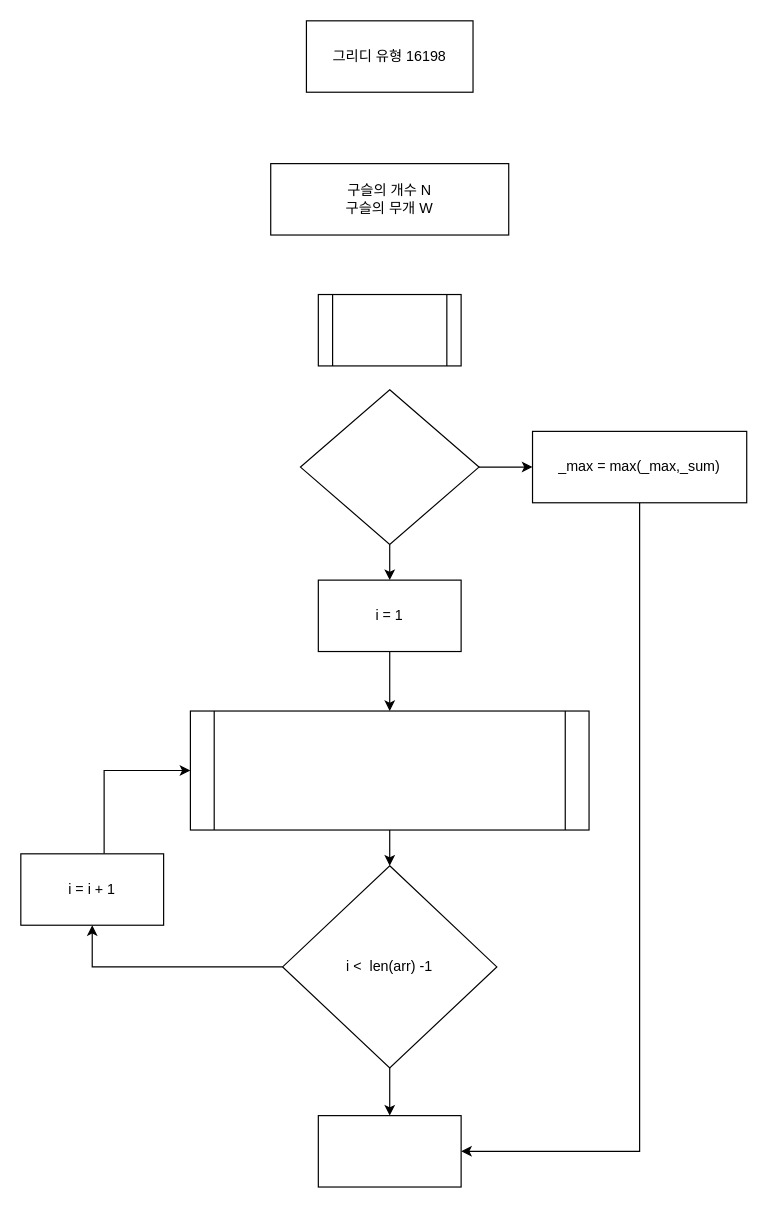
The diagram is 768 pixels wide and 1208 high, and some of its shapes have lost their labels. Each missing label, with the centre of its shape:
fun(newArr,_sum +W[i-1] * W[i+1]): (389,770)
if len == 2: (389,466)
return: (389,1150)
